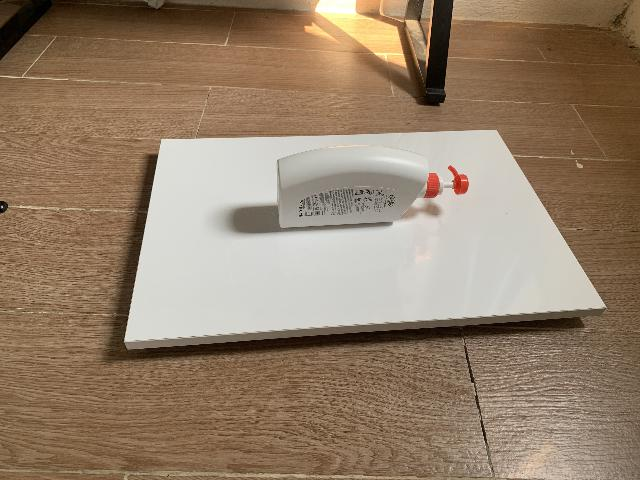life-buoy: (277, 145, 470, 228)
